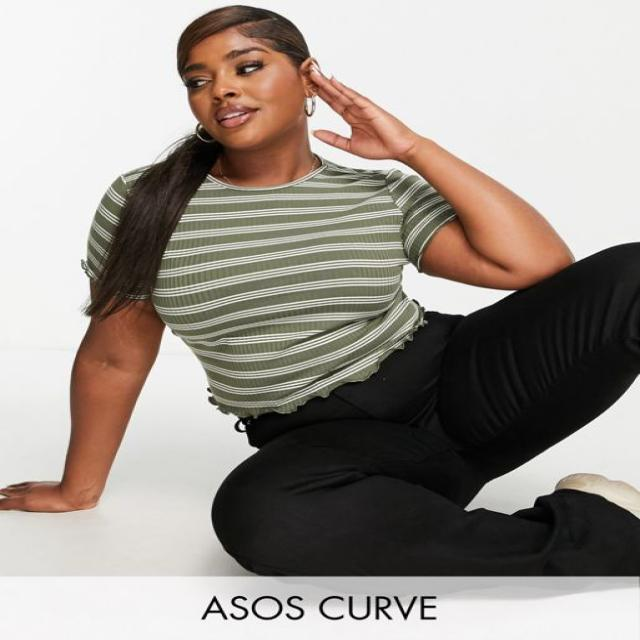tshirt: (78, 152, 460, 418)
